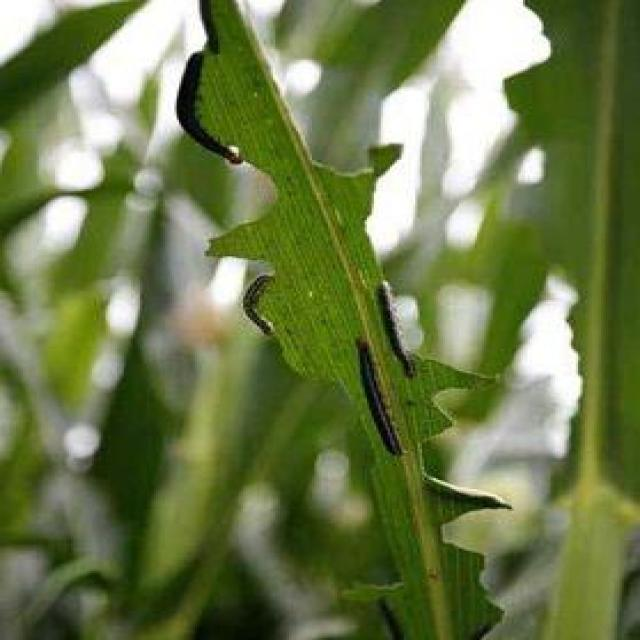pest: (336, 336, 414, 461), (177, 54, 233, 165), (378, 278, 441, 376), (246, 267, 291, 332)
